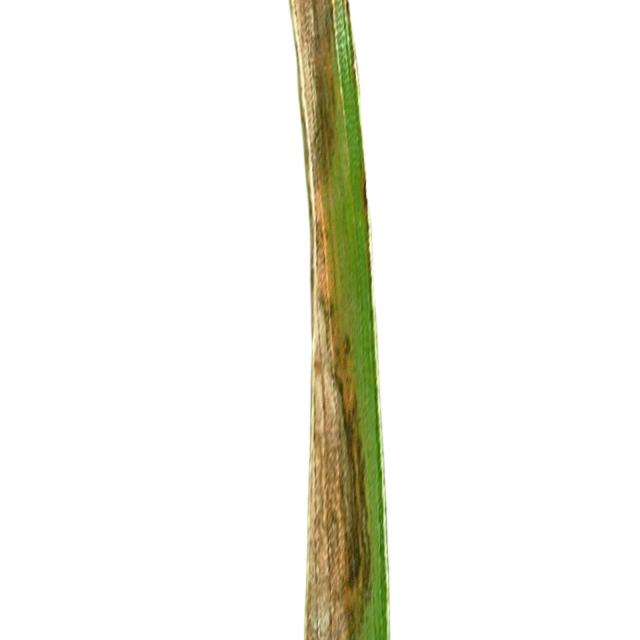Leaf scald: (196, 0, 598, 640)
